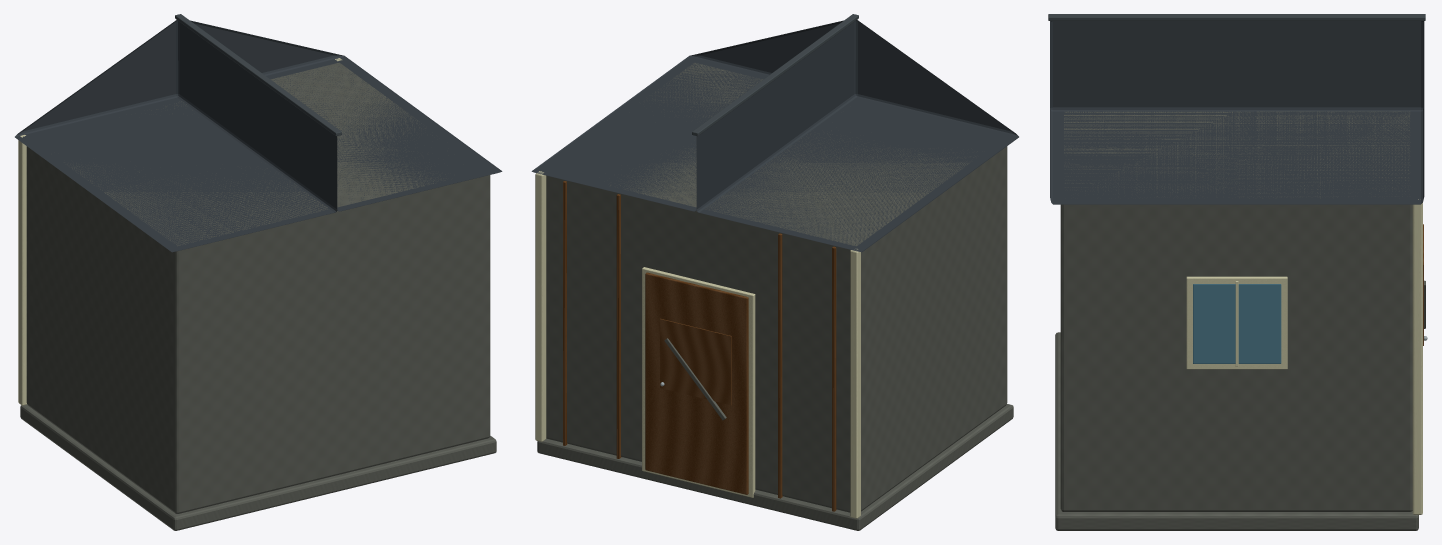
The model's file is Shed.gltf.
3 views of the same model, side by side, from view 1: azimuth 30°, elevation 25°; view 2: azimuth 150°, elevation 25°; view 3: azimuth 270°, elevation 25° (orthographic). The views are drawn at different scales.
Visible parts, largest first — view 1: Shed__Body; view 2: Shed__Body; view 3: Shed__Body.
Part boxes in pixels (x1=…): Shed__Body: x1=15, y1=14, x2=502, y2=530; Shed__Body: x1=531, y1=14, x2=1018, y2=530; Shed__Body: x1=1048, y1=14, x2=1427, y2=530.
Size of the model in its own units: 3.44 by 3.61 by 2.92.
Materials: 4 (1 with a texture image).
